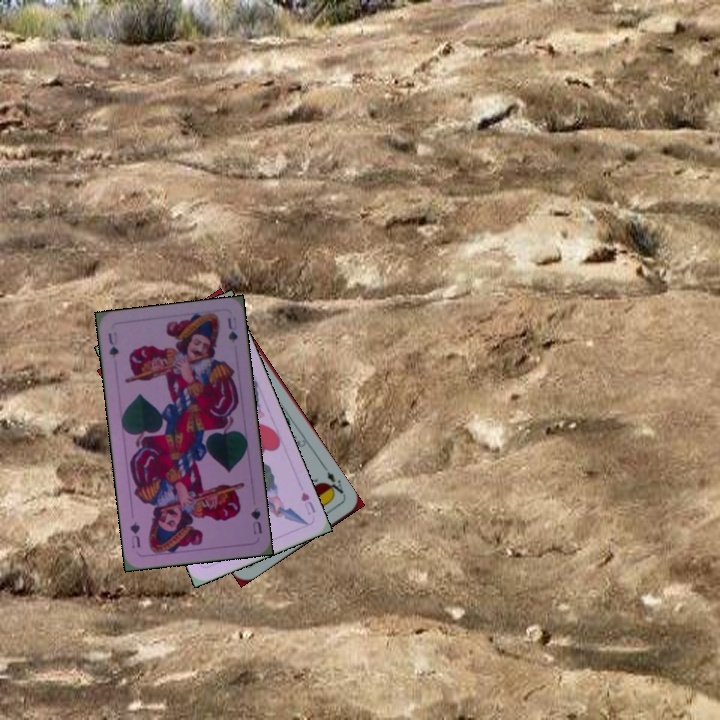EA: (320, 463, 348, 499)
GU: (247, 504, 265, 537), (104, 328, 121, 360)
HU: (297, 488, 318, 518)
